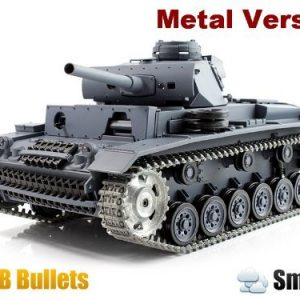Battle Tank: (2, 37, 300, 254)
